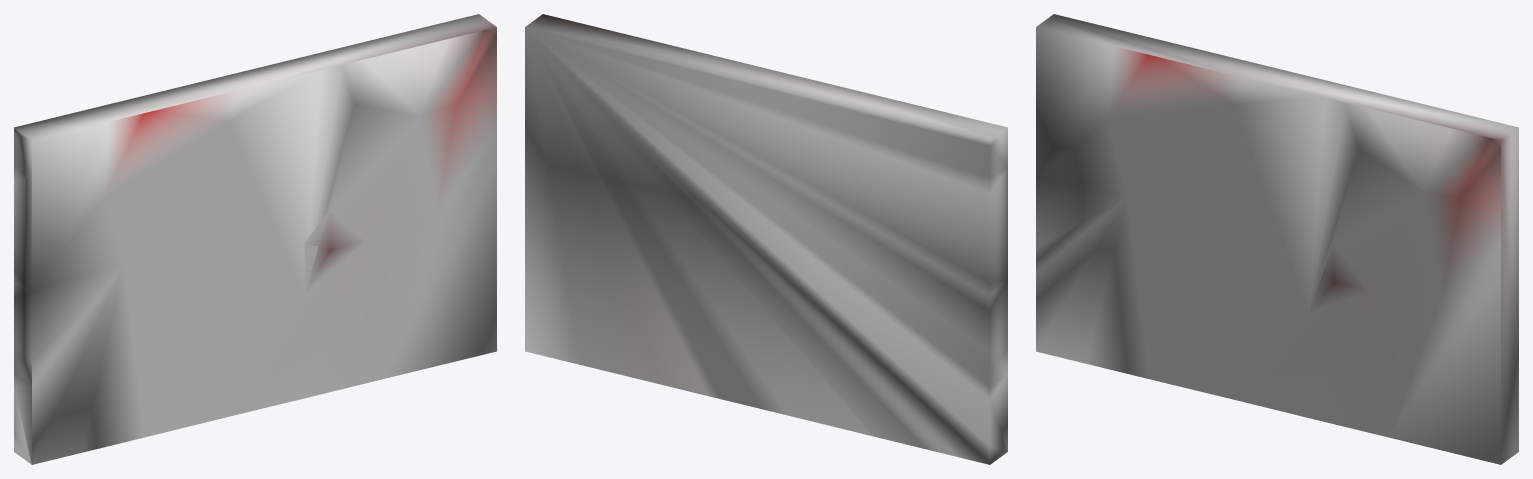
Rendered from SM_FA_Factory_W300_H200.fbx.
3 views of the same model, side by side, from view 1: azimuth 30°, elevation 25°; view 2: azimuth 150°, elevation 25°; view 3: azimuth 330°, elevation 25° (orthographic).
Visible parts, largest first — view 1: SM_FA_Factory_W300_H200; view 2: SM_FA_Factory_W300_H200; view 3: SM_FA_Factory_W300_H200.
Part boxes in pixels (x1,y1,x2,y2): SM_FA_Factory_W300_H200: (14, 14, 496, 464); SM_FA_Factory_W300_H200: (525, 14, 1007, 464); SM_FA_Factory_W300_H200: (1036, 14, 1518, 464).
Bounding box in the file's own units: 300 × 20 × 200.
